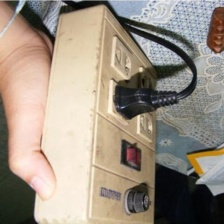three_eye_plug: (30, 0, 162, 224)
